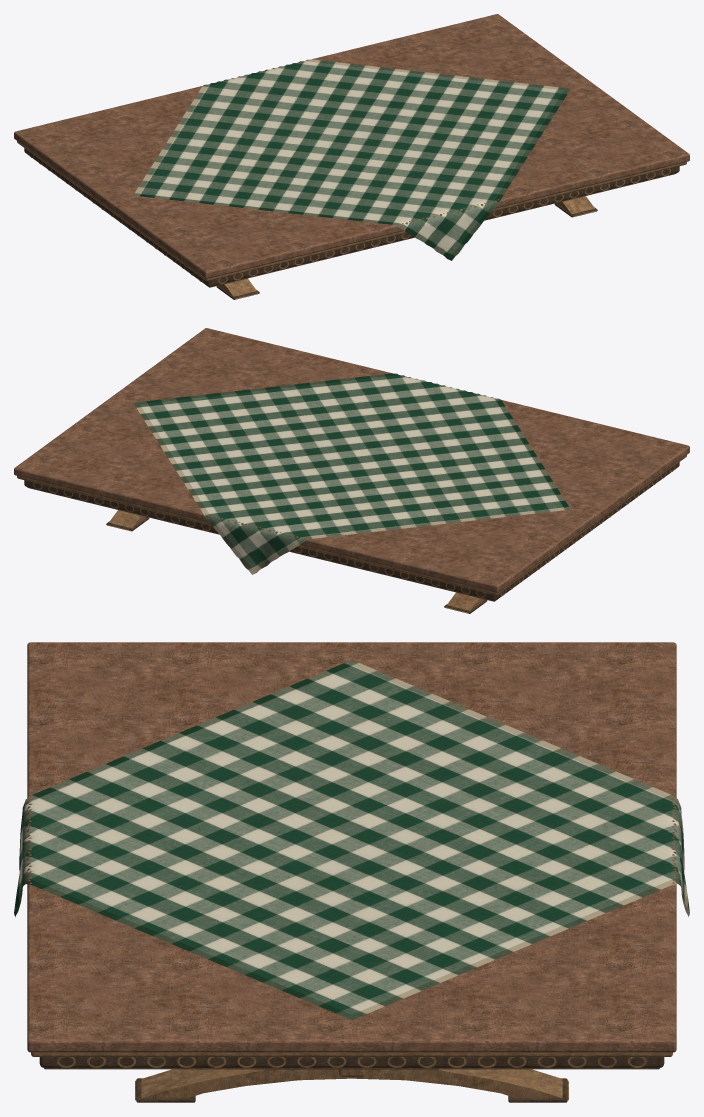
File: walnut-table.glb
The picture shows the model from 3 angles, top to bottom: view 1: azimuth 30°, elevation 25°; view 2: azimuth 150°, elevation 25°; view 3: azimuth 270°, elevation 25°; orthographic projection. The views are drawn at different scales.
Visible parts, largest first — view 1: Diagonal Gingham, Clear Play Table; view 2: Diagonal Gingham, Clear Play Table; view 3: Diagonal Gingham, Clear Play Table.
Part boxes in pixels (x1=…): Diagonal Gingham: x1=133, y1=59, x2=570, y2=260; Clear Play Table: x1=14, y1=14, x2=689, y2=299; Diagonal Gingham: x1=133, y1=373, x2=570, y2=574; Clear Play Table: x1=14, y1=328, x2=689, y2=613; Diagonal Gingham: x1=14, y1=660, x2=689, y2=1020; Clear Play Table: x1=27, y1=642, x2=676, y2=1102.
Size of the model in its own units: 6.4 by 0.846 by 4.58.
6 materials, 6 textured.
